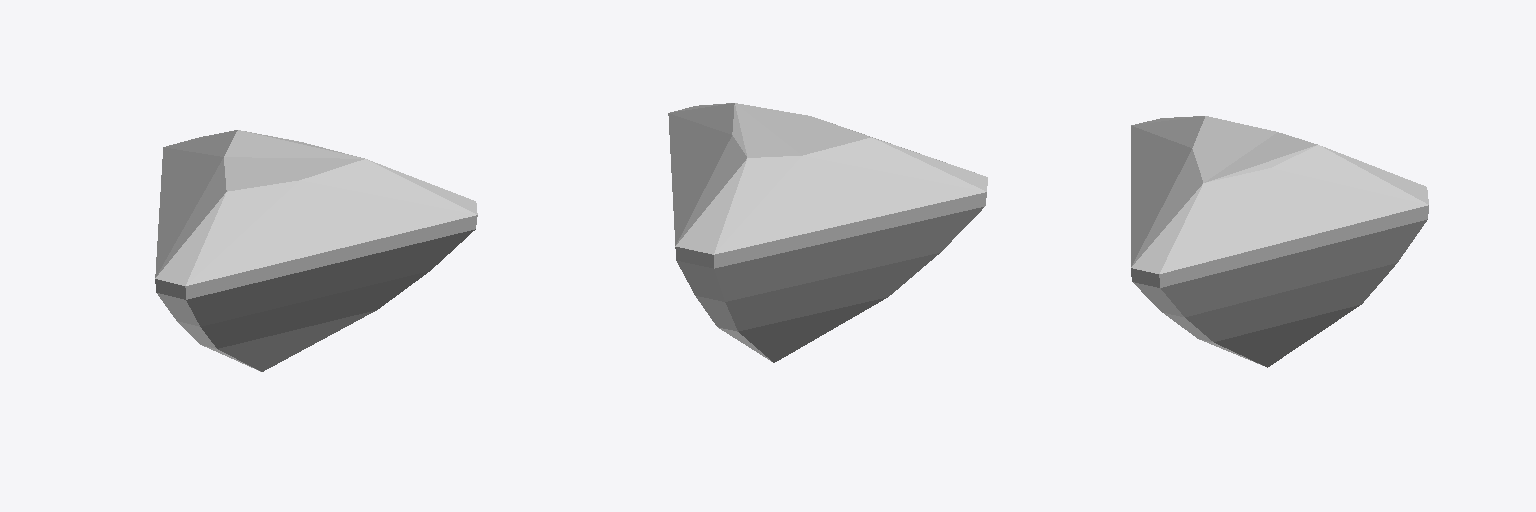
File: Gem6.obj
The picture shows the model from 3 angles: view 1: azimuth 30°, elevation 25°; view 2: azimuth 150°, elevation 25°; view 3: azimuth 270°, elevation 25°; orthographic projection.
Size of the model in its own units: 0.0318 by 0.0212 by 0.0256.